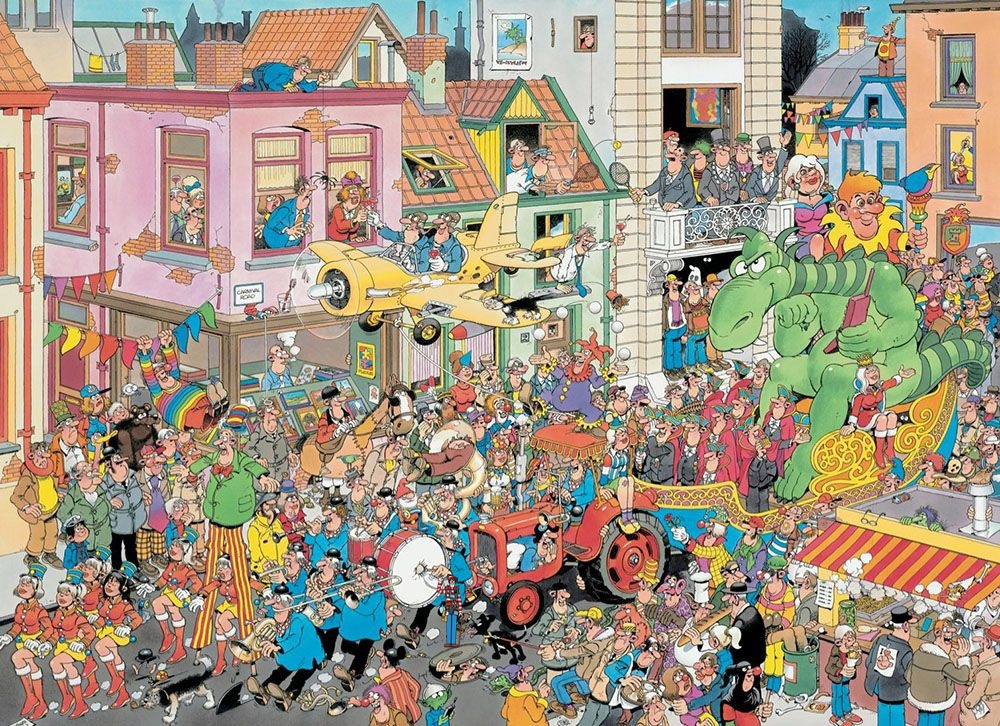waldo: (437, 574, 464, 648)
